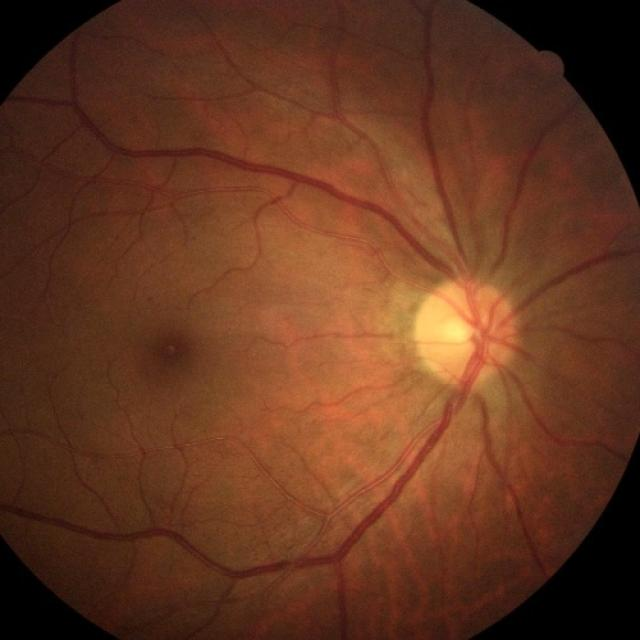OC: (443, 317, 472, 344)
OD: (417, 281, 519, 385)
